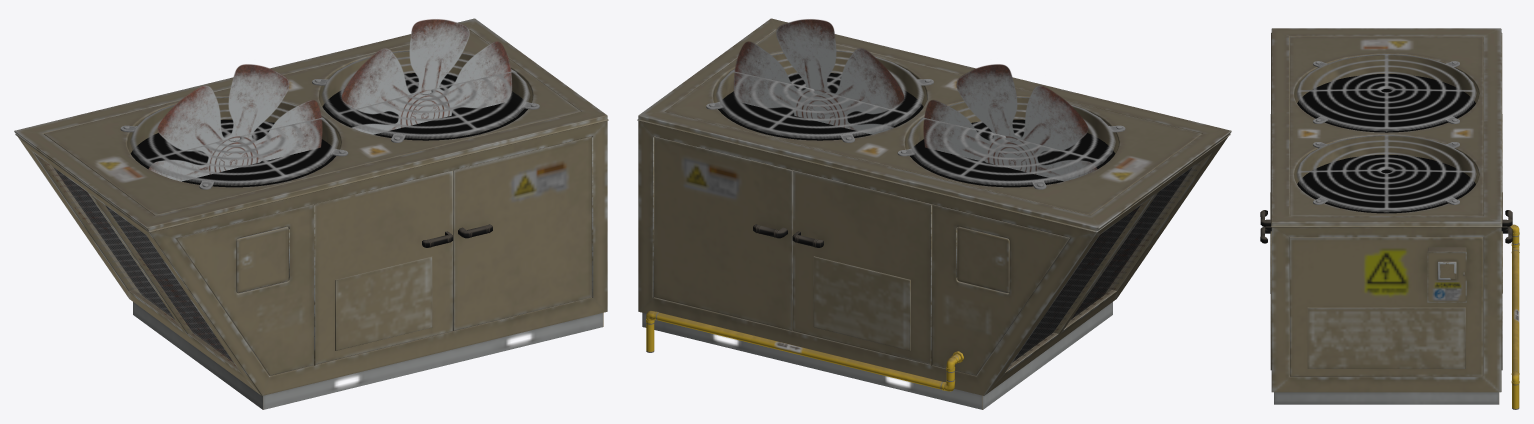
File: hvac-unit-0bf1ac.glb
3 views of the same model, side by side, from view 1: azimuth 30°, elevation 25°; view 2: azimuth 150°, elevation 25°; view 3: azimuth 270°, elevation 25° (orthographic). The views are drawn at different scales.
Parts seen in each view (by area): view 1: PropMesh; view 2: PropMesh; view 3: PropMesh.
Part boxes in pixels (x1=…): PropMesh: x1=14, y1=18, x2=608, y2=409; PropMesh: x1=637, y1=18, x2=1231, y2=409; PropMesh: x1=1260, y1=28, x2=1519, y2=409.
Size of the model in its own units: 2.6 by 1.6 by 1.42.
Materials: 3 (3 with a texture image).
